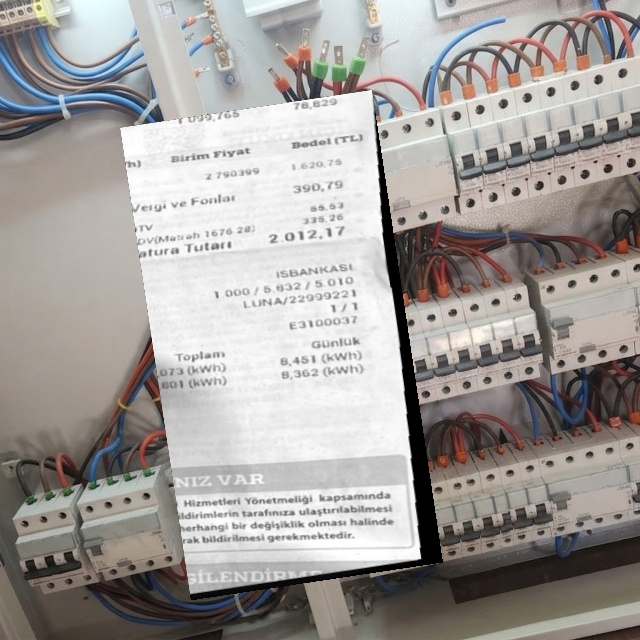electricity-bill: (120, 89, 443, 599)
